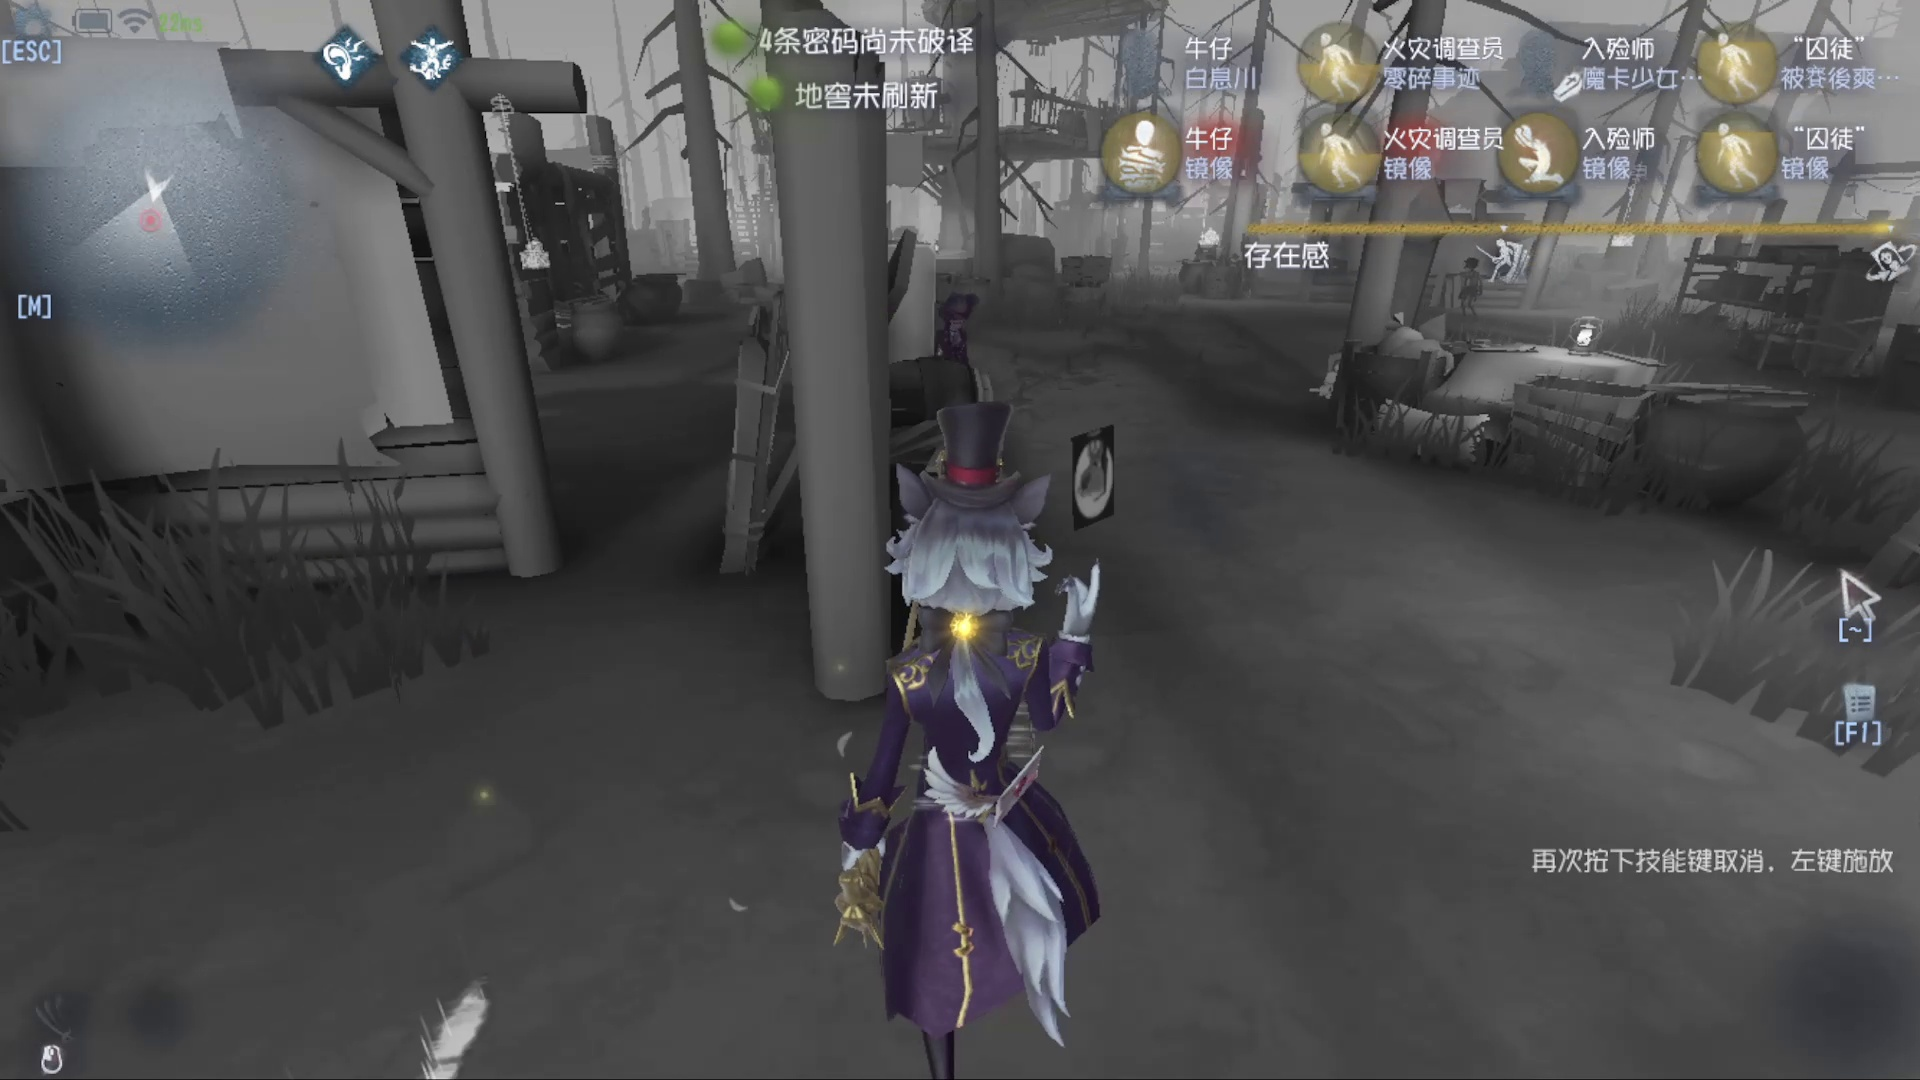木板: (708, 278, 789, 574)
求生者: (913, 284, 992, 377)
